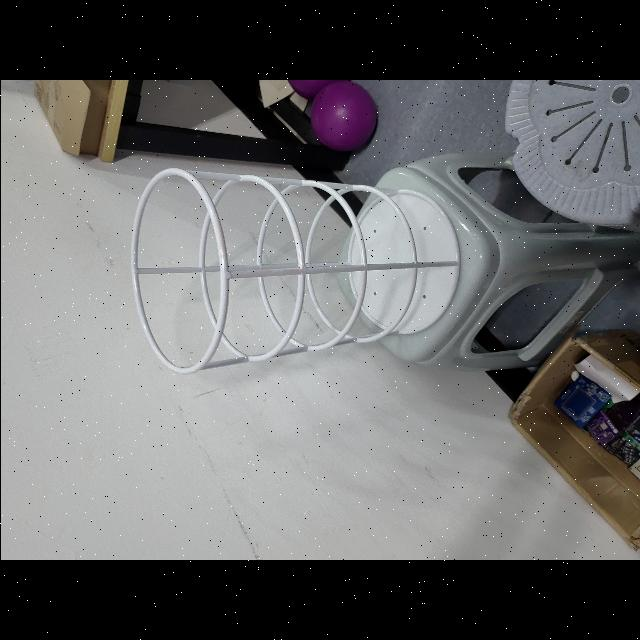S: (126, 166, 466, 374)
